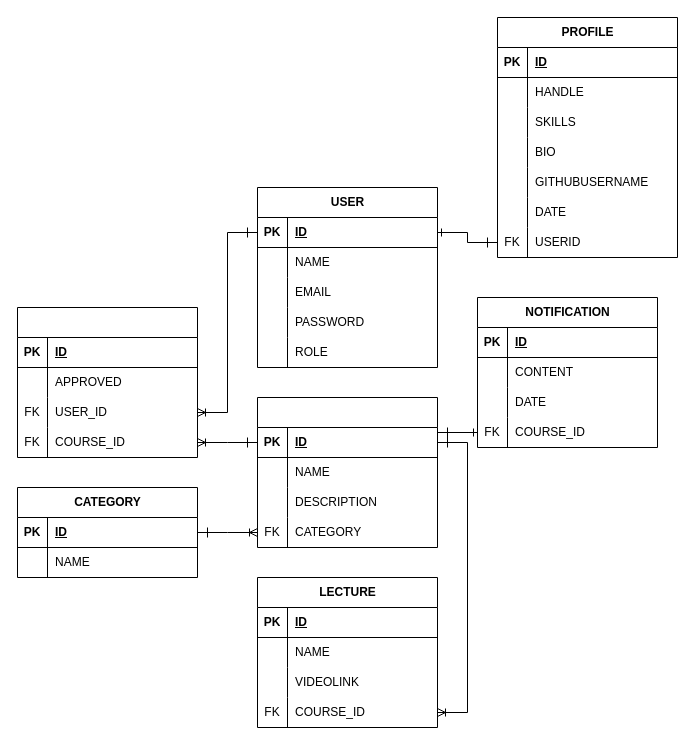
Image size: 695x745. Some labels were removed from this diagram. The shapes that lost their labels are listed below. From the top down, each one's box as (x1, y1, x2, y2) in pixels, then its label:
(16, 306, 198, 458): ENROLLMENT
(256, 396, 438, 548): COURSE
